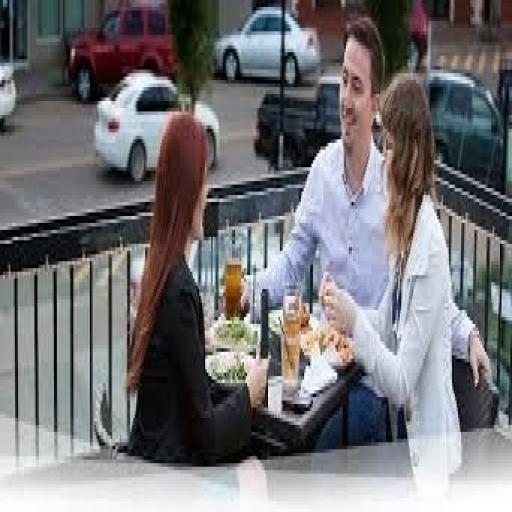eating: (114, 14, 492, 474)
